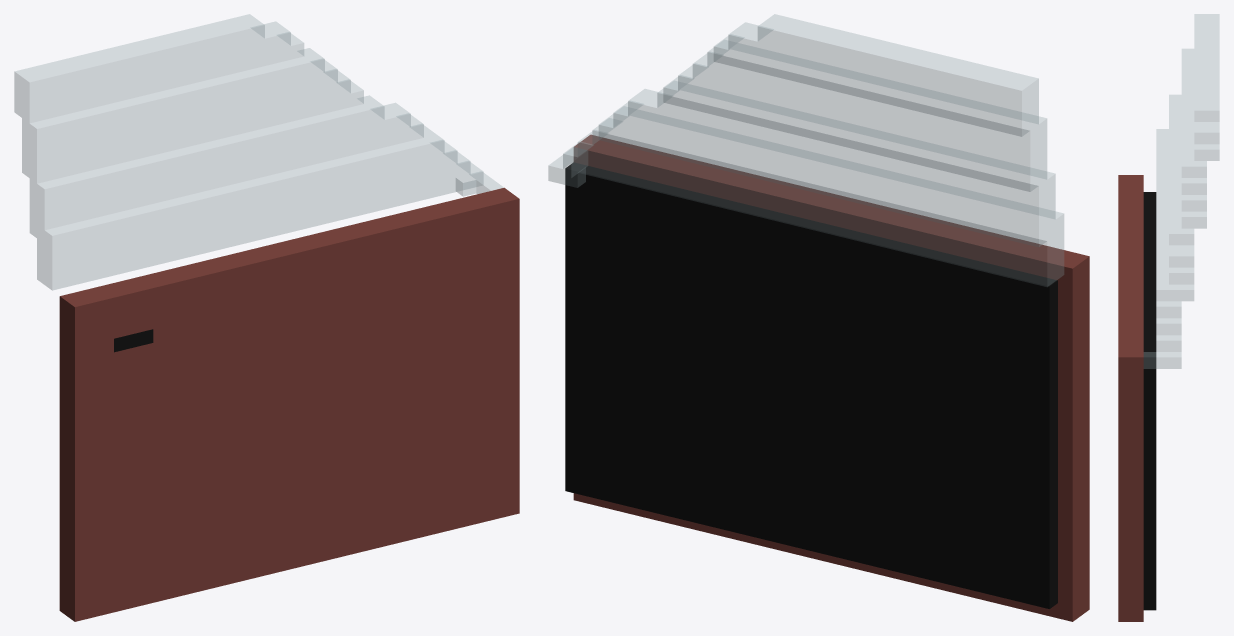
File: luxury_saloon_front_door.glb
3 views of the same model, side by side, from view 1: azimuth 30°, elevation 25°; view 2: azimuth 150°, elevation 25°; view 3: azimuth 270°, elevation 25° (orthographic). The views are drawn at different scales.
Visible parts, largest first — view 1: body:compound; view 2: body:compound; view 3: body:compound.
Boxes of the visible parts, left/top/right/bottom form: body:compound: left=14, top=14, right=519, bottom=621; body:compound: left=548, top=14, right=1089, bottom=621; body:compound: left=1118, top=14, right=1219, bottom=621.
Size of the model in its own units: 1.06 by 1.16 by 0.25.
